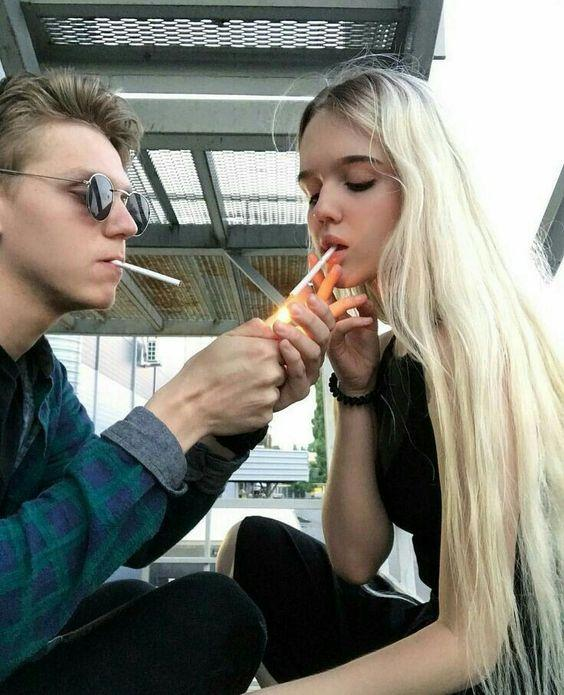cigarette: (289, 244, 337, 299), (109, 259, 182, 287)
